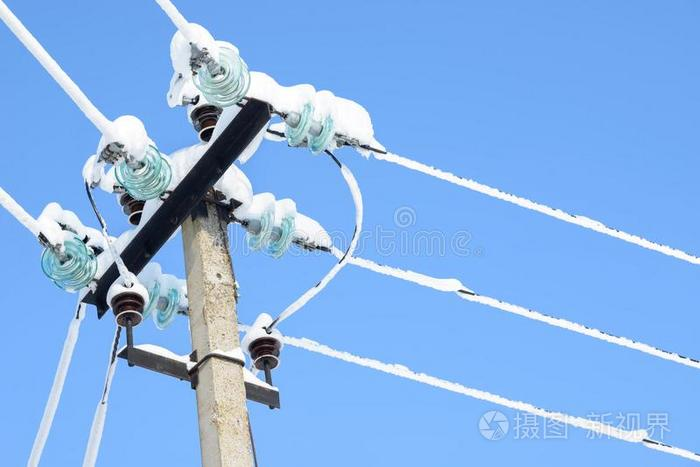insulator: (195, 48, 249, 107), (113, 148, 172, 201), (44, 237, 97, 294), (245, 199, 296, 258), (286, 99, 331, 159), (138, 276, 179, 331)
